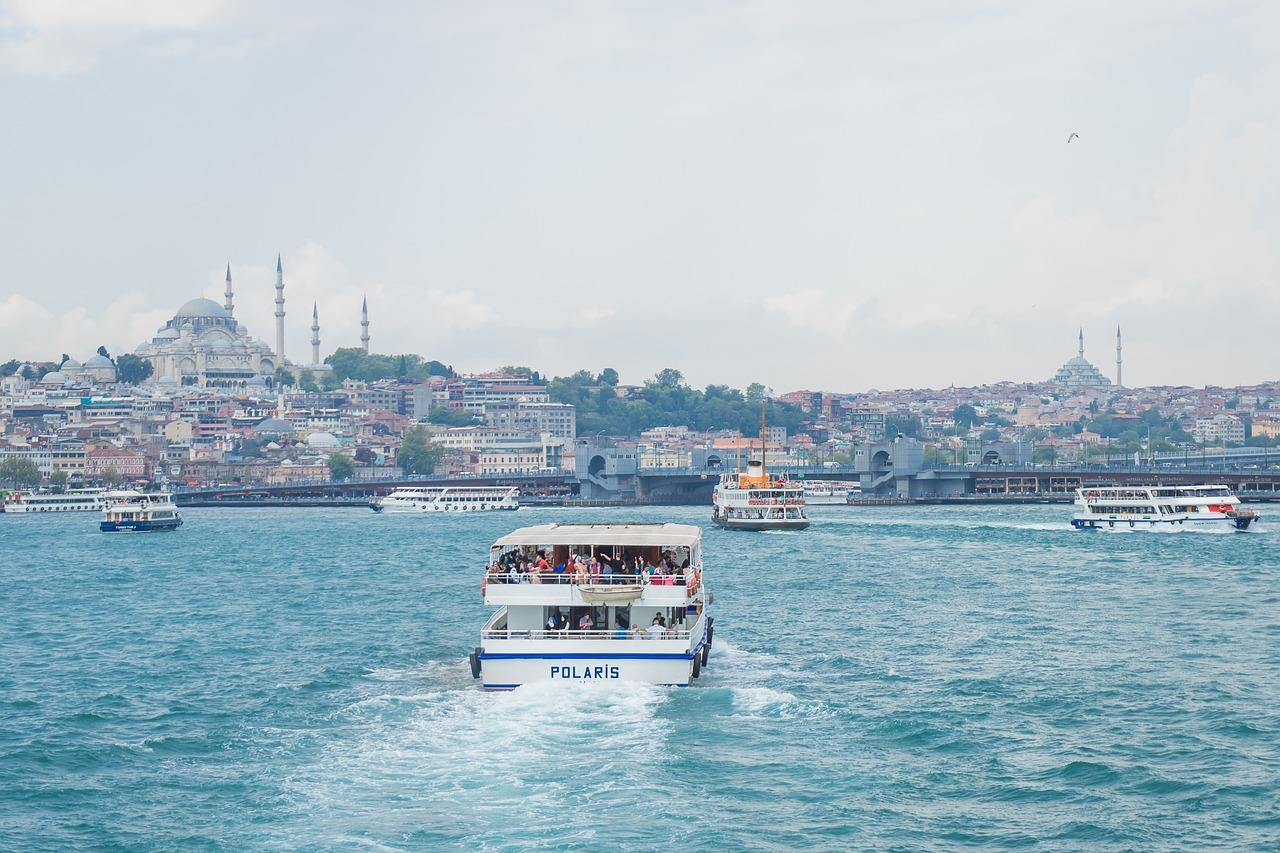Ship: (471, 524, 714, 691), (1074, 486, 1259, 532), (714, 451, 811, 531), (371, 486, 521, 514), (101, 491, 184, 534)
